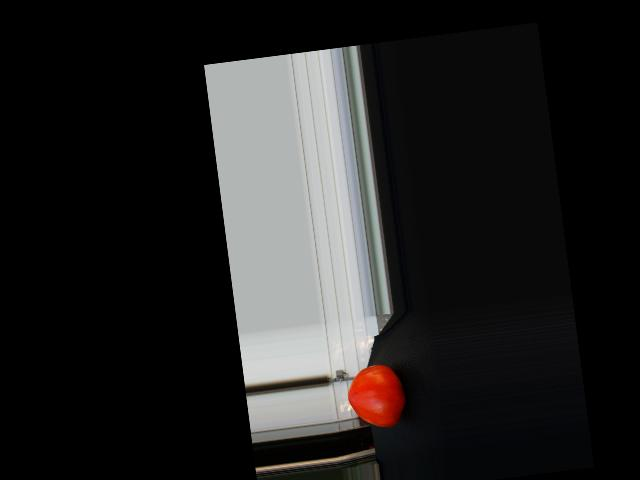tomato: (344, 361, 408, 431)
